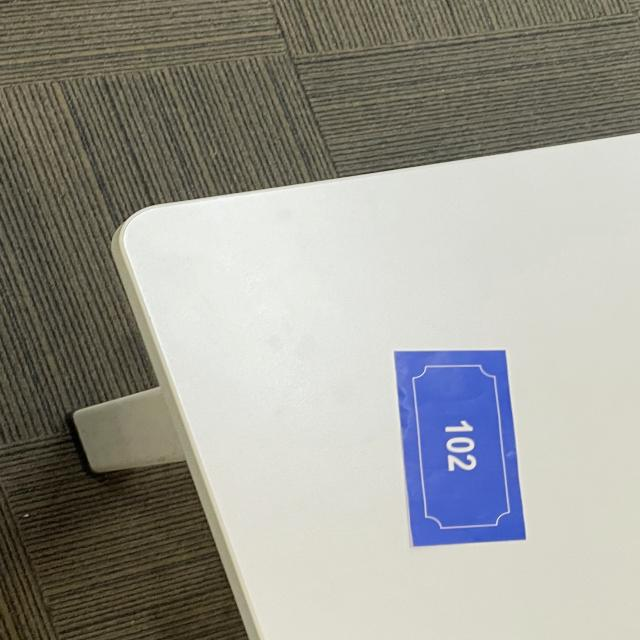Card: (376, 332, 556, 556)
